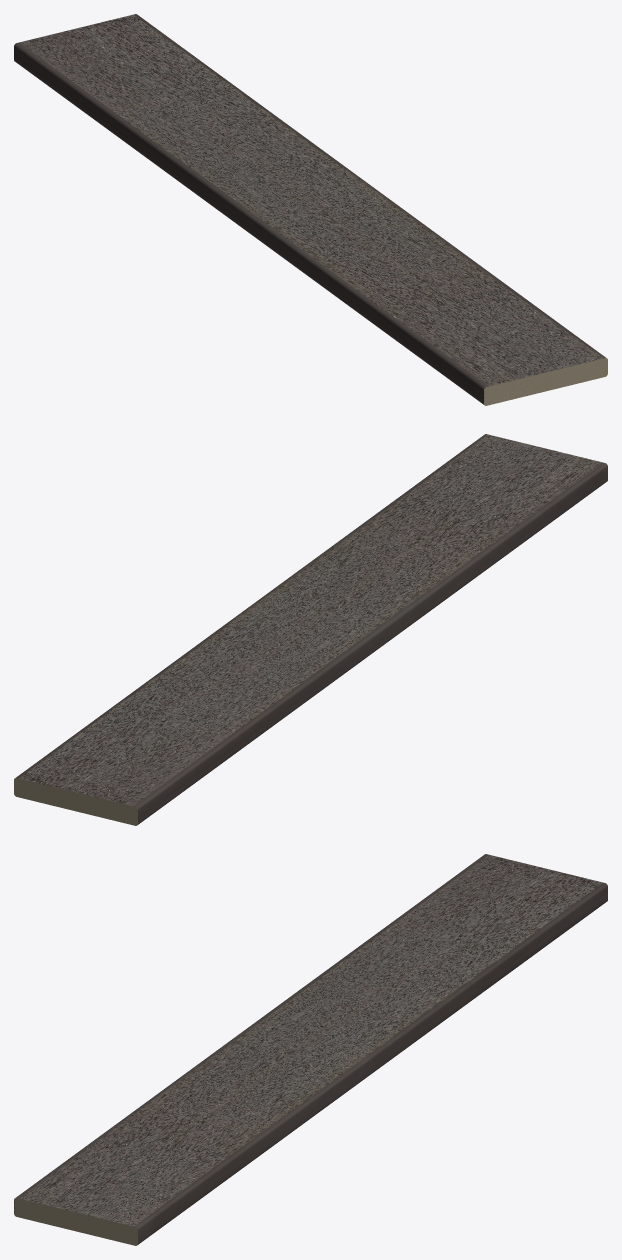
The model's file is ConcordiaGraphite_GLB_v03.glb.
The picture shows the model from 3 angles, top to bottom: view 1: azimuth 30°, elevation 25°; view 2: azimuth 150°, elevation 25°; view 3: azimuth 330°, elevation 25°; orthographic projection.
Visible parts, largest first — view 1: Mesh; view 2: Mesh; view 3: Mesh.
Boxes of the visible parts, x1,y1,x2,y2 form: Mesh: (14, 14, 607, 405); Mesh: (14, 434, 607, 825); Mesh: (14, 854, 607, 1245).
Size of the model in its own units: 0.1397 by 0.0203 by 0.916.
1 material, 1 textured.
